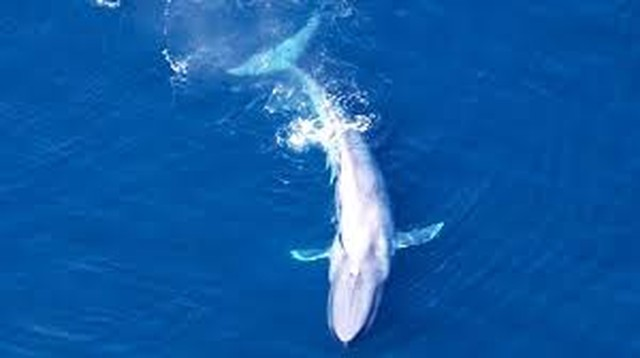whale: (221, 14, 447, 348)
